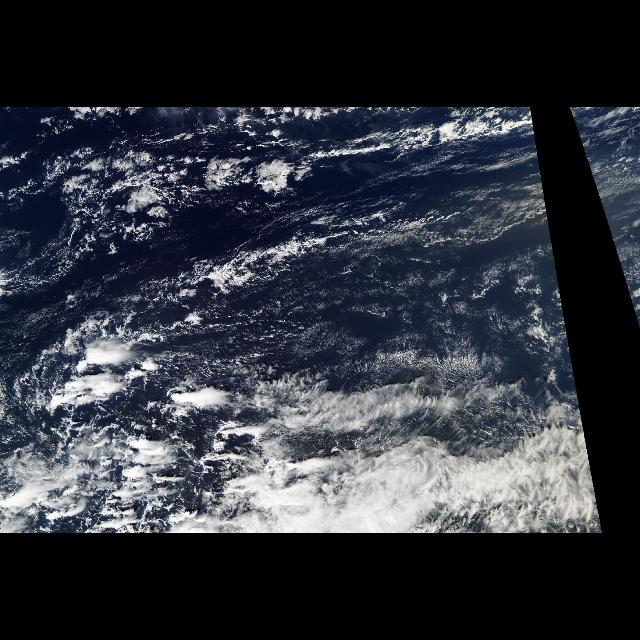Sugar: (265, 112, 575, 378), (571, 112, 637, 322)
